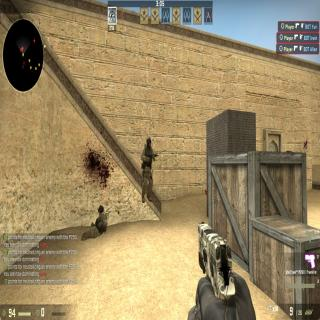CT-Body: (140, 136, 154, 204)
CT-Head: (146, 136, 152, 148)
